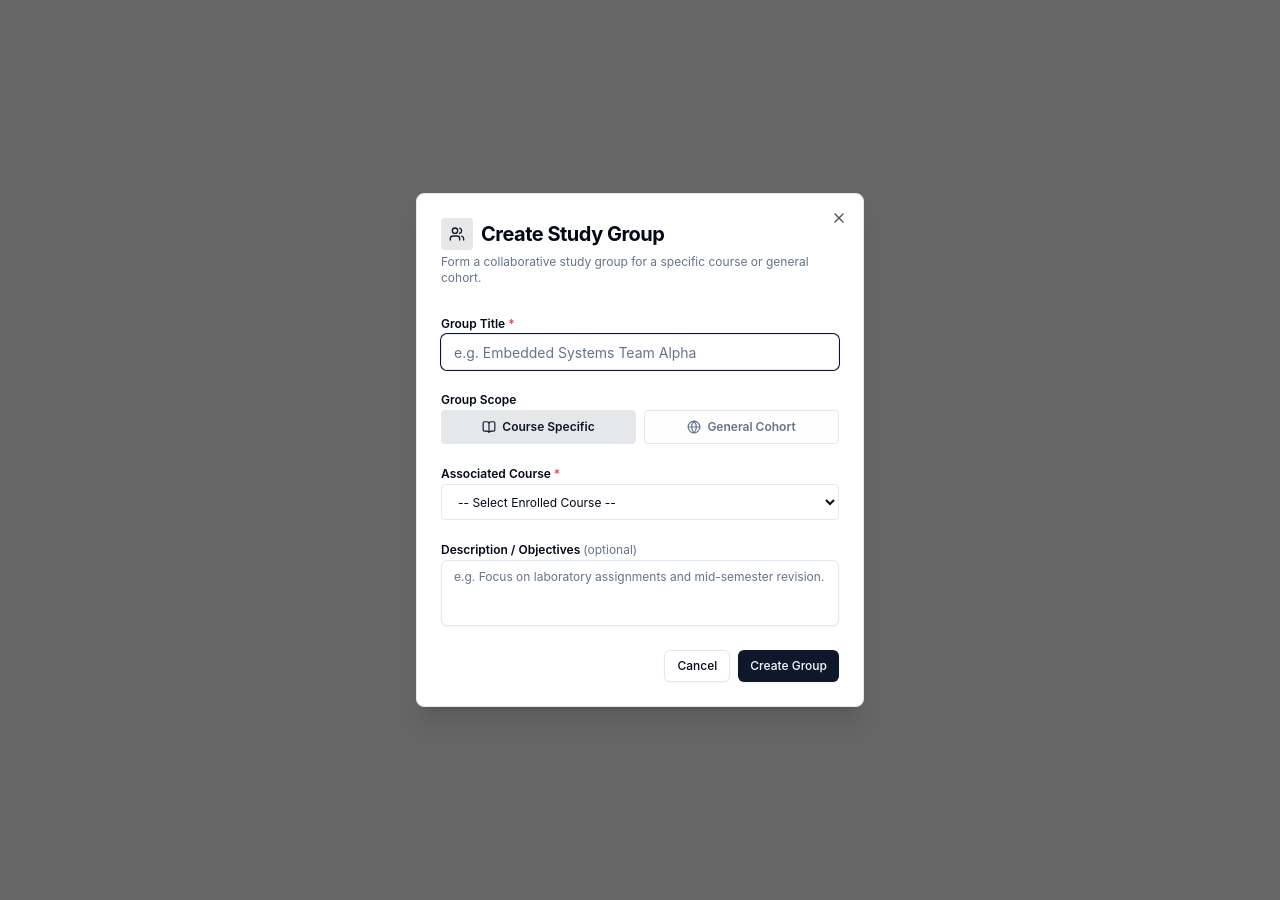
Test: Group Dialogs & Components › CreateGroupDialog › validates required fields on empty submit
Click the button with test id "create-group-submit-btn": {"x": 789, "y": 666} x1=738 y1=650 x2=839 y2=682
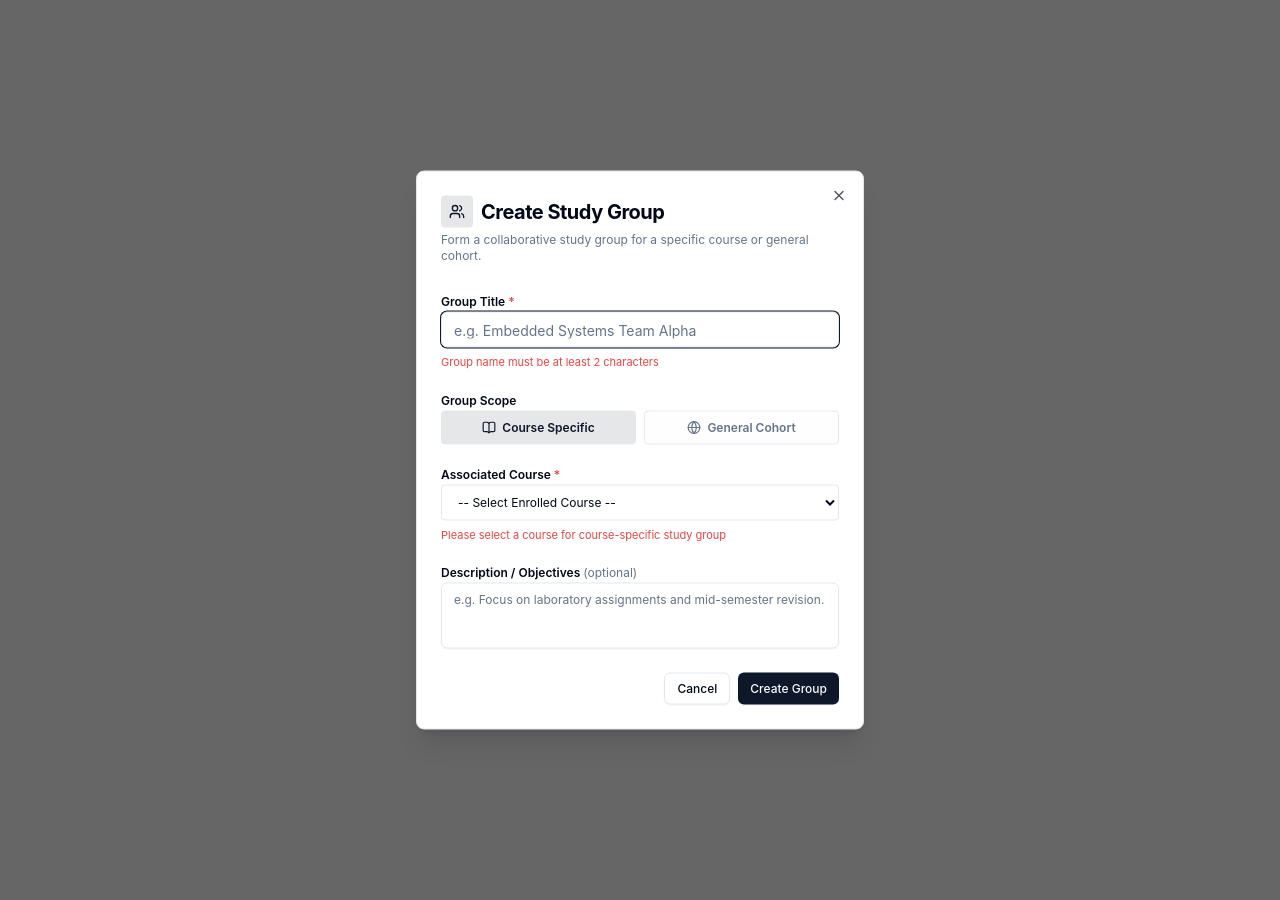
Result: the text "Group name must be at least 2 characters" is shown at x1=441 y1=354 x2=659 y2=368
